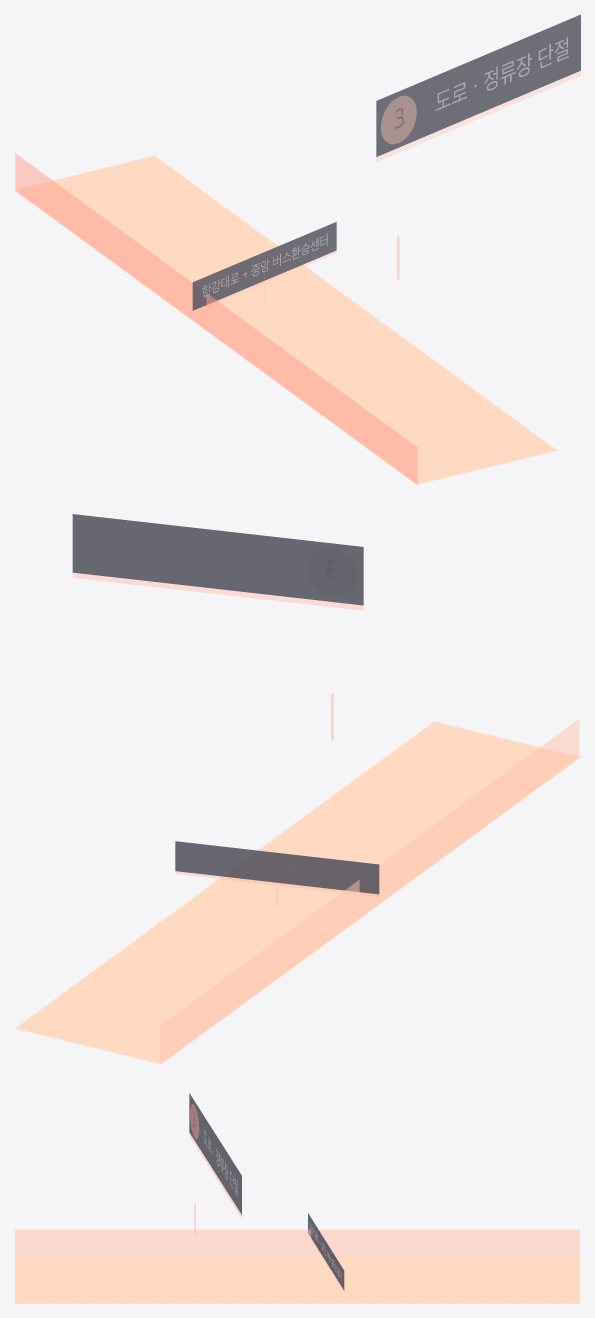
3 renders of one model, top to bottom at view 1: azimuth 30°, elevation 25°; view 2: azimuth 150°, elevation 25°; view 3: azimuth 270°, elevation 25°, orthographic. The views are drawn at different scales.
Visible parts, largest first — view 1: P3_Band, P3_Fence_W, P3_Plate, PS_3_5_Plate, P3_Outline, P3_NumDisc, P3_Accent, P3_Title; view 2: P3_Band, P3_Plate, P3_Fence_W, PS_3_5_Plate, P3_Accent, P3_Outline; view 3: P3_Band, P3_Fence_W, P3_Plate, PS_3_5_Plate, P3_Outline.
Boxes of the visible parts, <box> form: P3_Band: <box>16,156,556,483</box>; P3_Fence_W: <box>15,153,417,484</box>; P3_Plate: <box>376,14,580,156</box>; PS_3_5_Plate: <box>192,222,336,310</box>; P3_Outline: <box>14,155,556,484</box>; P3_NumDisc: <box>381,96,416,143</box>; P3_Accent: <box>377,71,580,161</box>; P3_Title: <box>436,37,568,110</box>; P3_Band: <box>16,722,578,1063</box>; P3_Plate: <box>72,514,363,605</box>; P3_Fence_W: <box>160,719,579,1064</box>; PS_3_5_Plate: <box>175,841,379,894</box>; P3_Accent: <box>73,573,363,610</box>; P3_Outline: <box>14,721,580,1063</box>; P3_Band: <box>15,1256,579,1303</box>; P3_Fence_W: <box>15,1229,579,1255</box>; P3_Plate: <box>189,1093,241,1214</box>; PS_3_5_Plate: <box>308,1213,344,1290</box>; P3_Outline: <box>14,1255,580,1303</box>.
Bounding box in the file's own units: 169 × 129 × 346.
